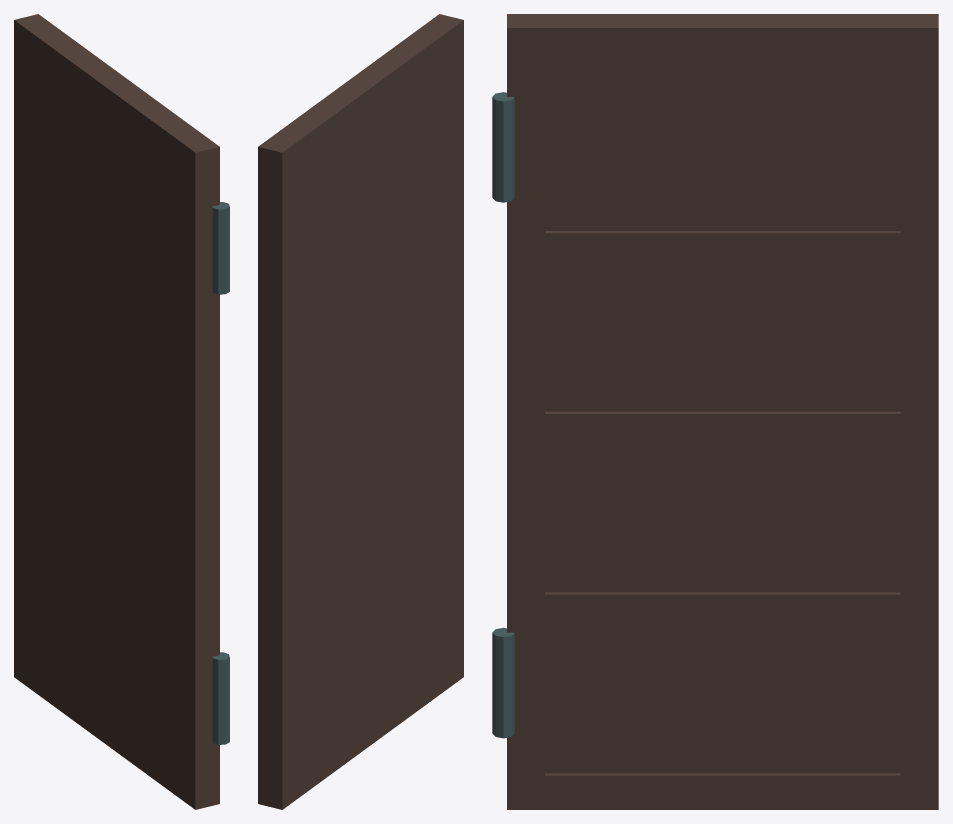
Rendered from Anta_Bancone.fbx.
3 views of the same model, side by side, from view 1: azimuth 30°, elevation 25°; view 2: azimuth 150°, elevation 25°; view 3: azimuth 270°, elevation 25° (orthographic). The views are drawn at different scales.
Visible parts, largest first — view 1: AntaBancone; view 2: AntaBancone; view 3: AntaBancone.
Boxes of the visible parts, bbox=[...] form: AntaBancone: bbox=[14, 14, 229, 809]; AntaBancone: bbox=[258, 14, 463, 809]; AntaBancone: bbox=[492, 14, 938, 809].
Size of the model in its own units: 0.0395 by 0.7727 by 0.3996.
